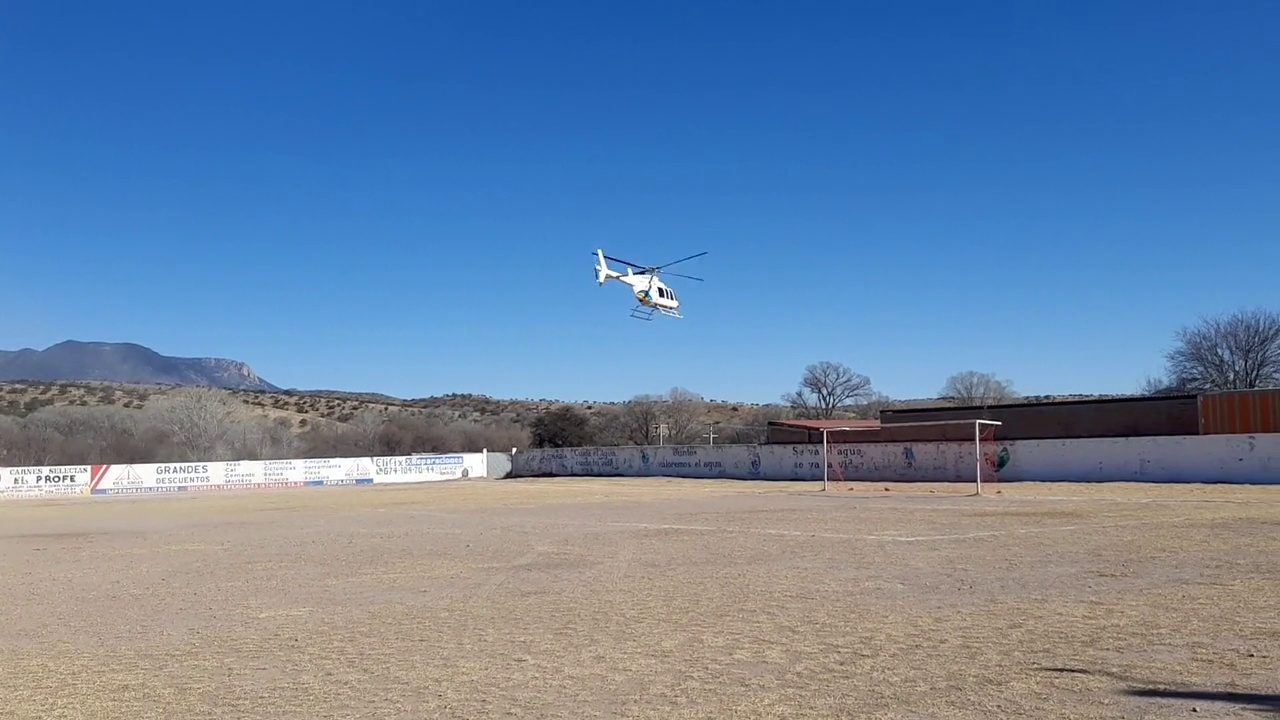heli: (589, 246, 708, 320)
